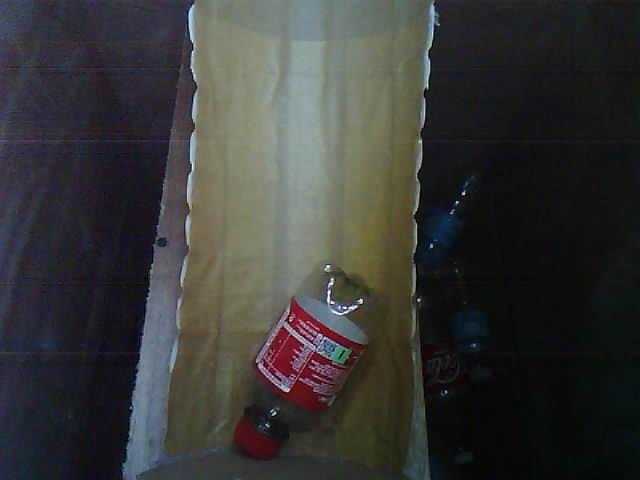small_bottle: (206, 238, 385, 480)
